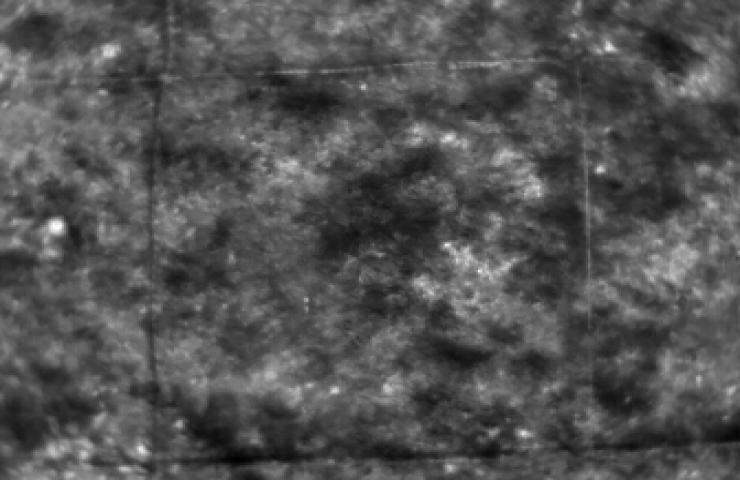landmines: (46, 216, 74, 240)
